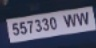0: (49, 16, 57, 30)
3: (35, 19, 42, 34), (42, 18, 49, 32)
5: (12, 22, 19, 36), (20, 21, 27, 35)
7: (28, 20, 34, 34)
w: (63, 12, 76, 28), (77, 11, 89, 28)
